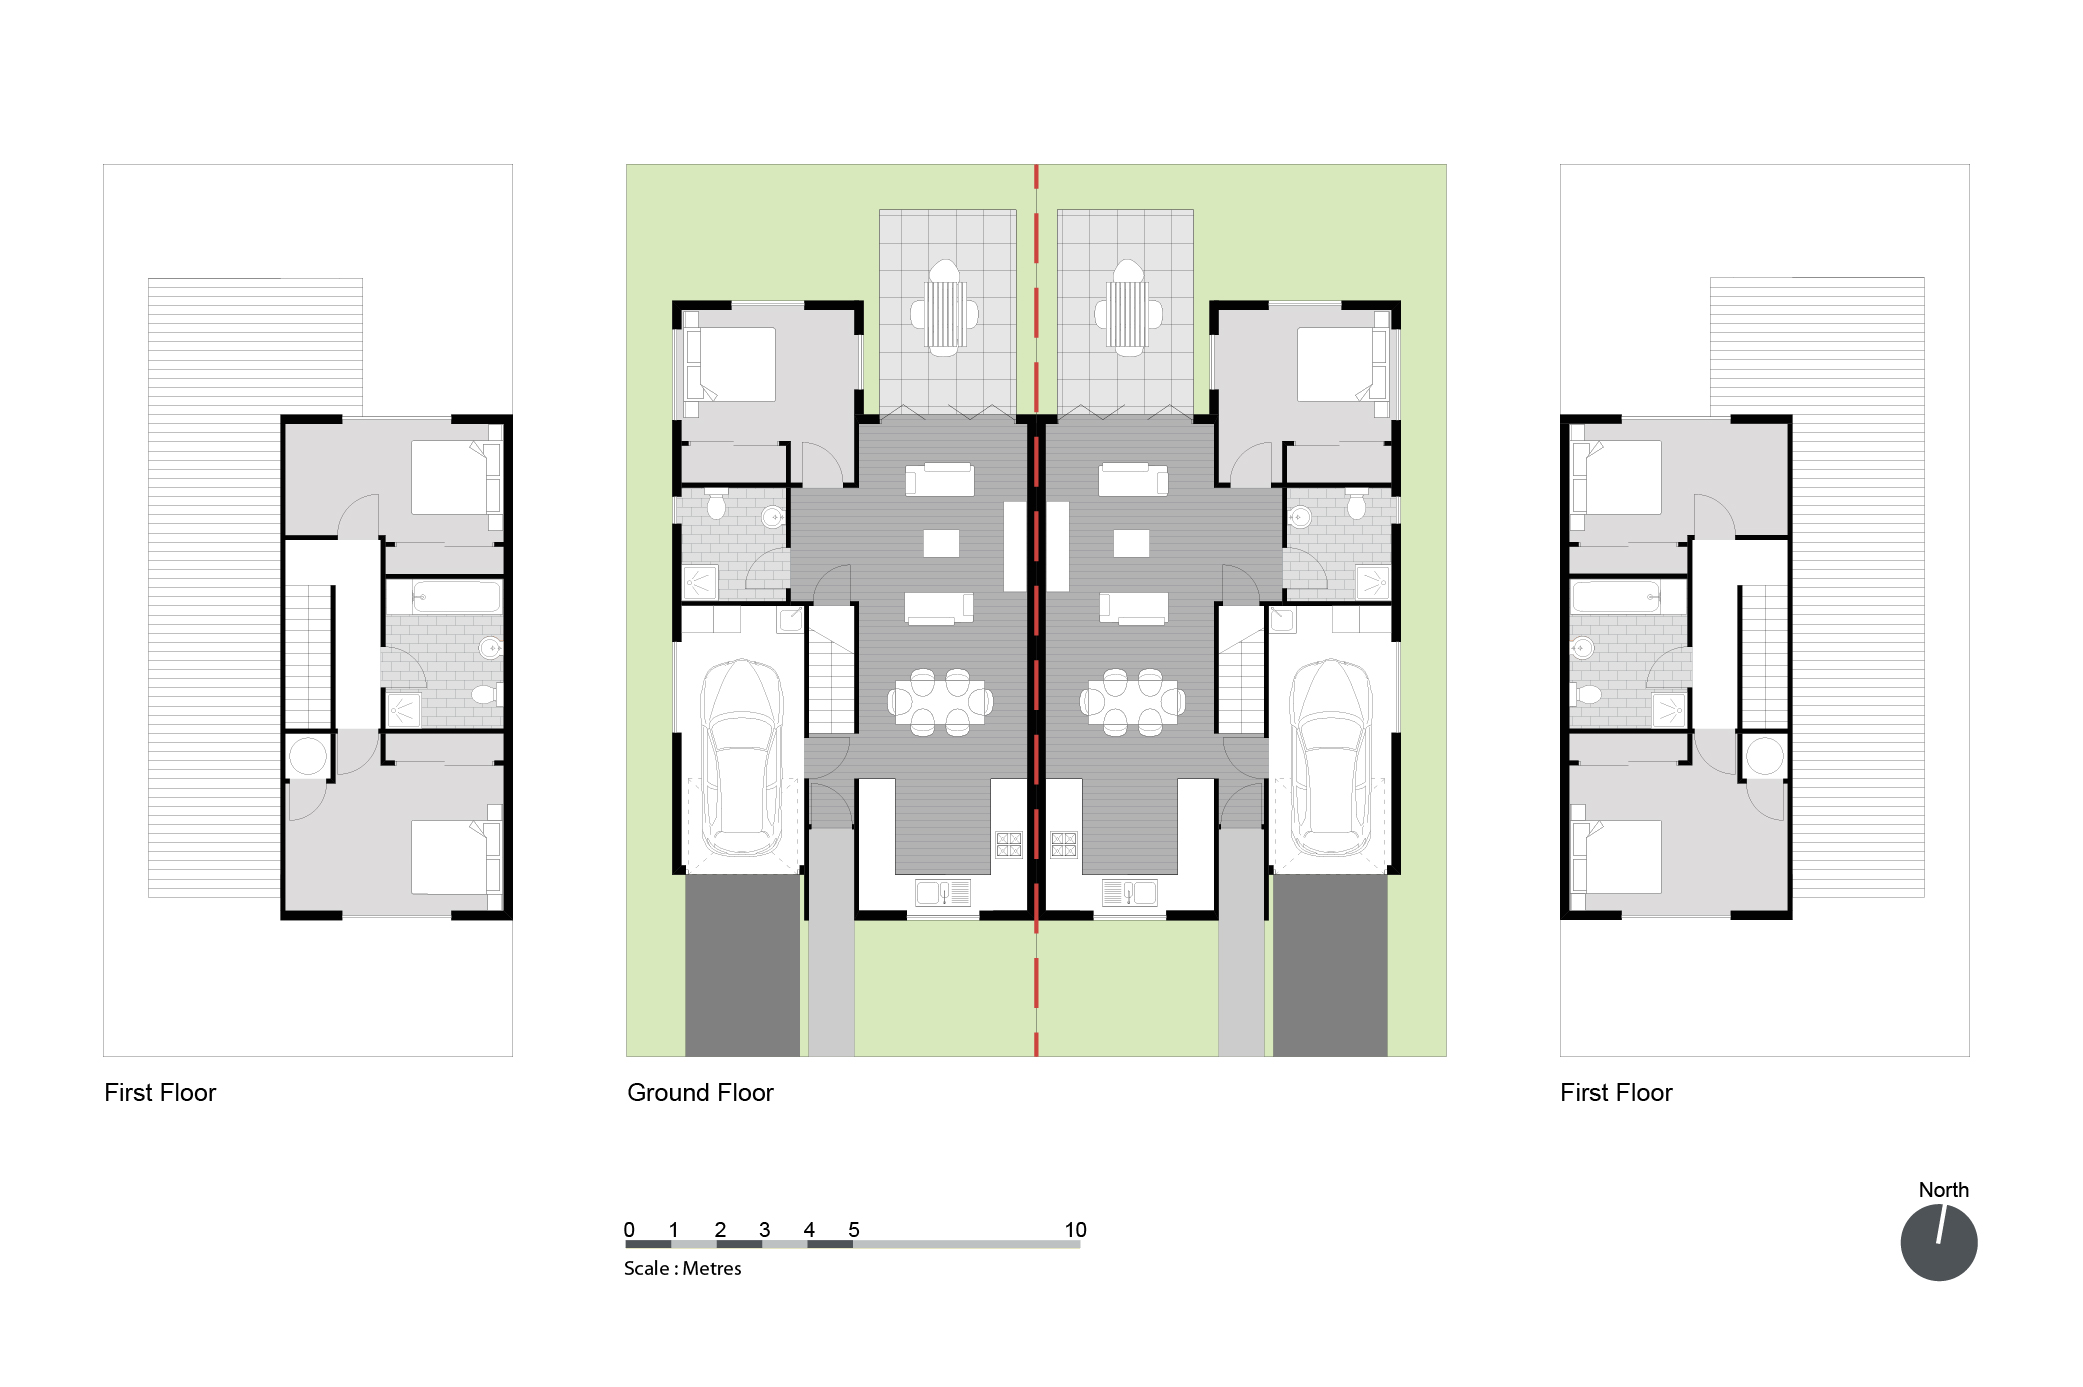door: (1219, 735, 1269, 780), (806, 735, 854, 780), (1230, 440, 1274, 488), (1218, 562, 1261, 607), (1693, 491, 1736, 536), (1744, 780, 1787, 825), (812, 560, 854, 605), (800, 443, 842, 488), (339, 491, 381, 536), (286, 786, 331, 827), (334, 735, 379, 776)
